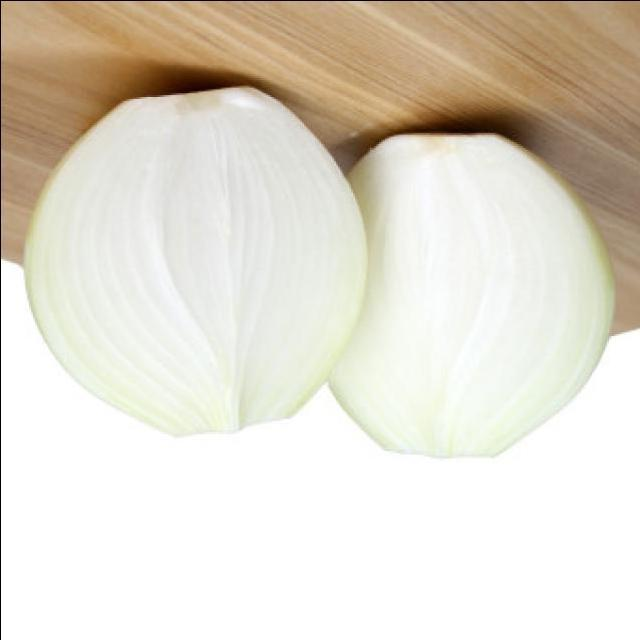Onion: (23, 83, 343, 440), (332, 127, 616, 464)
